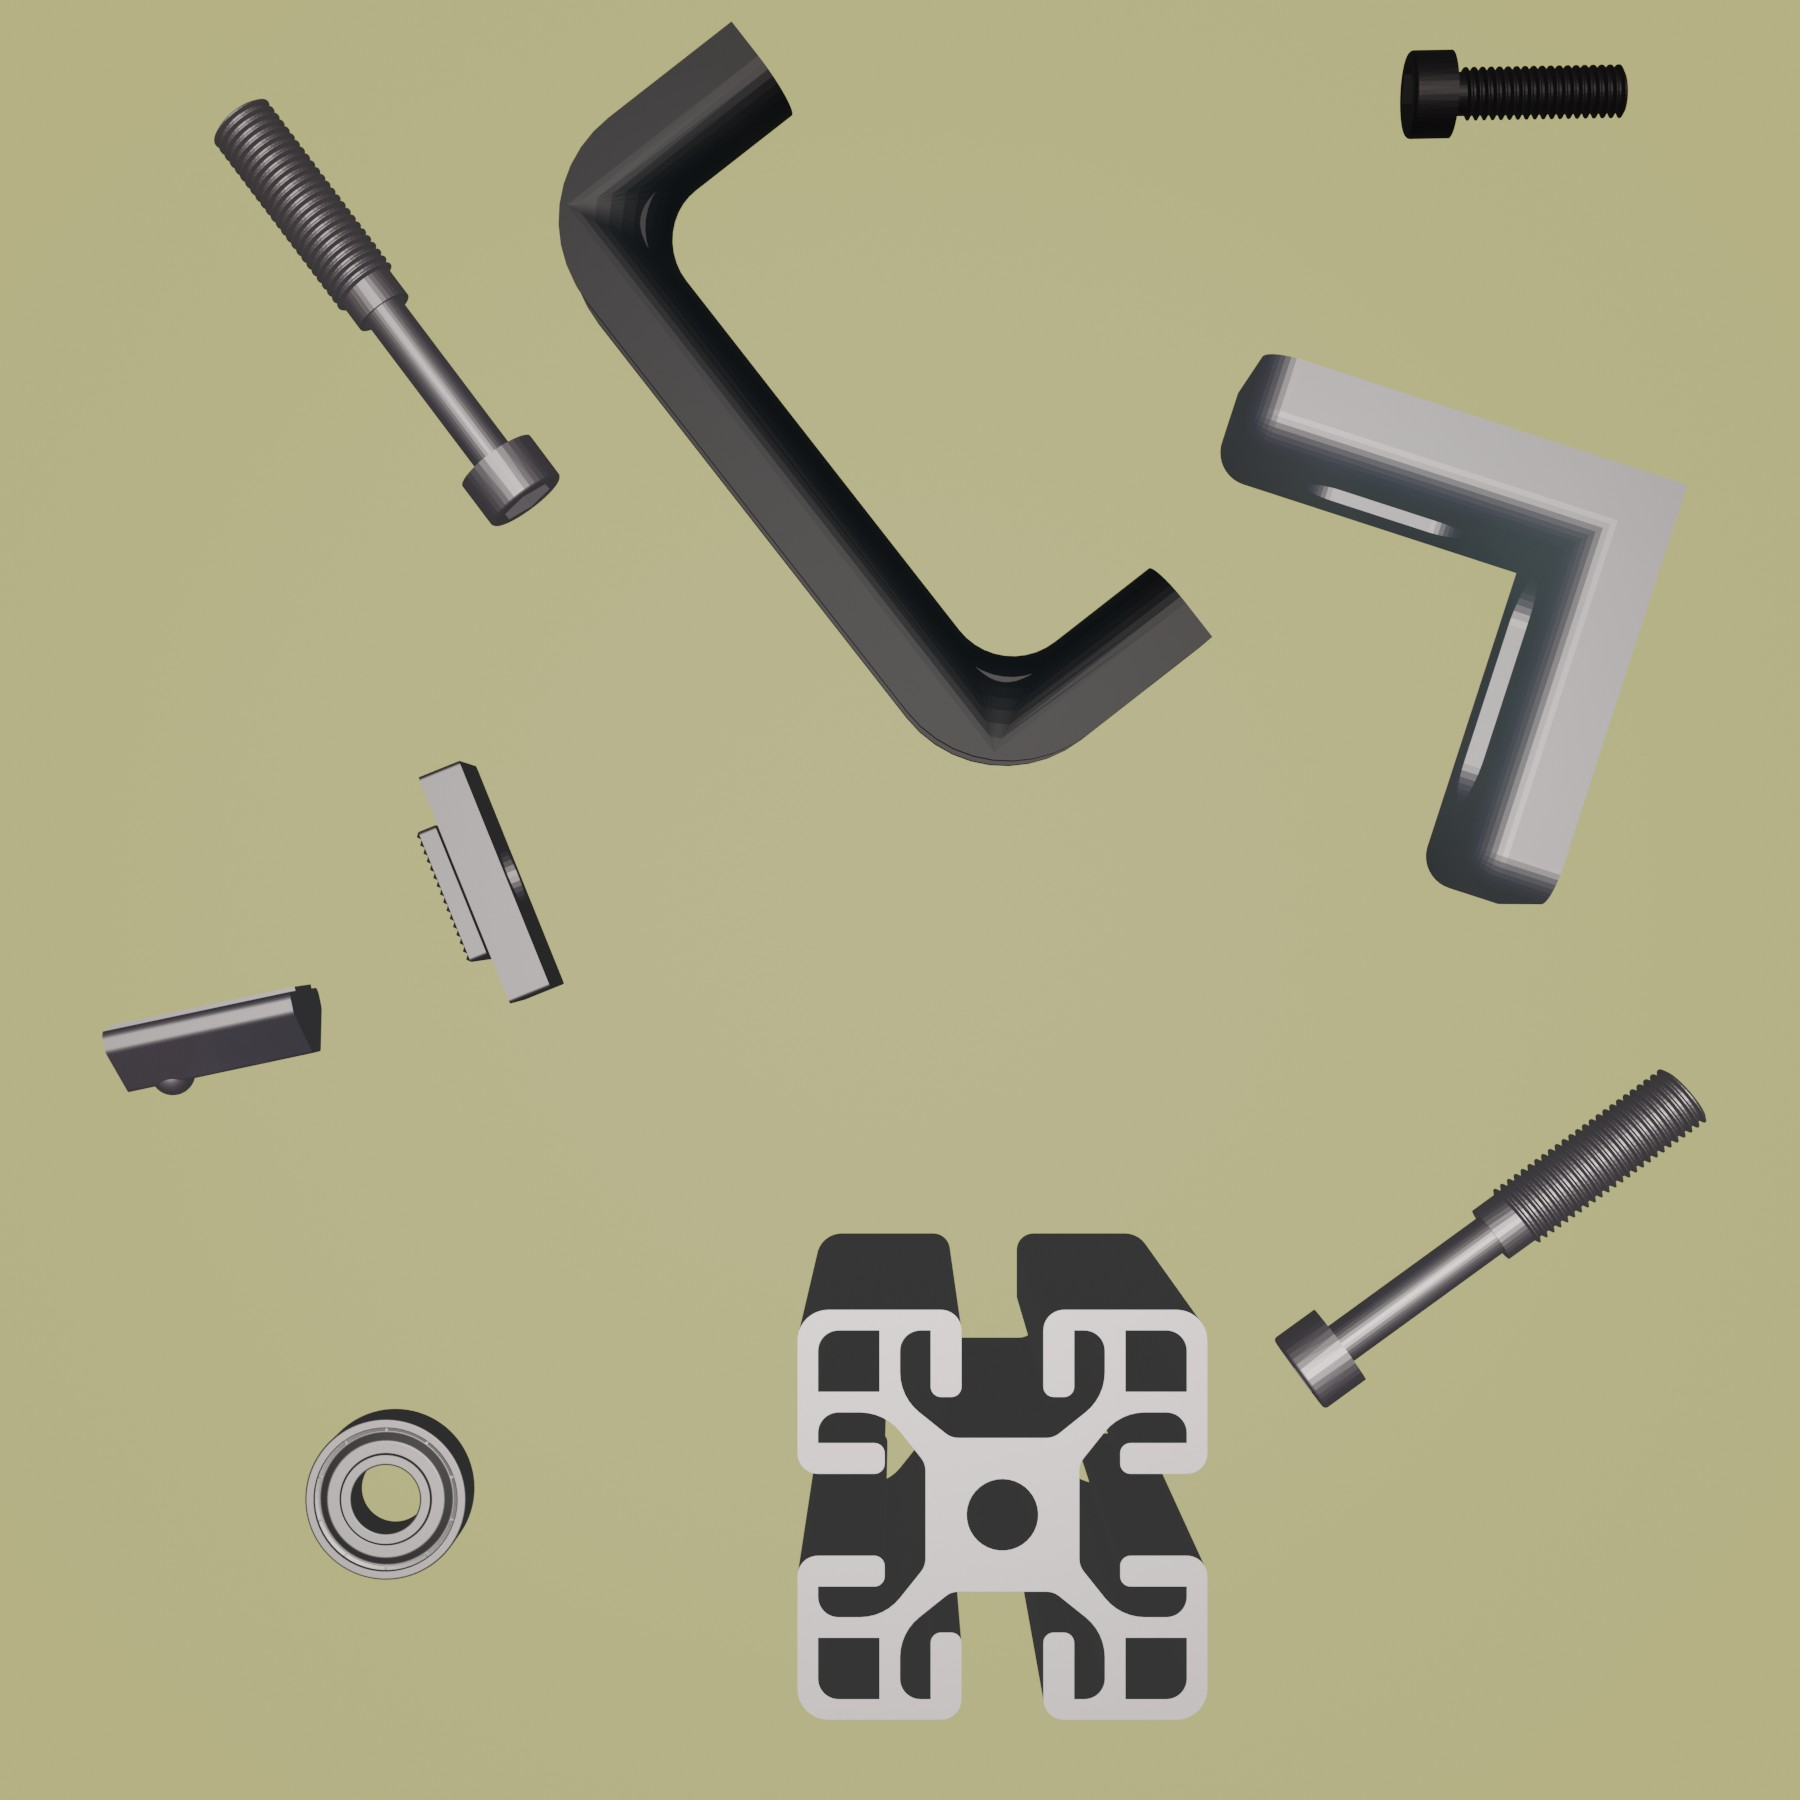Aluminium Extension: (791, 1230, 1213, 1727)
Ball Bearing: (302, 1404, 478, 1582)
Multiwinkel: (1220, 351, 1696, 908)
Pull Handle: (555, 15, 1215, 768)
Shoulder Socket Head Cap Screw: (211, 96, 562, 532), (1273, 1065, 1711, 1409)
Socket Head Cap Screw: (1396, 41, 1630, 143)
T Nut Square: (412, 757, 565, 1007)
T Spring Nut: (97, 977, 326, 1098)
